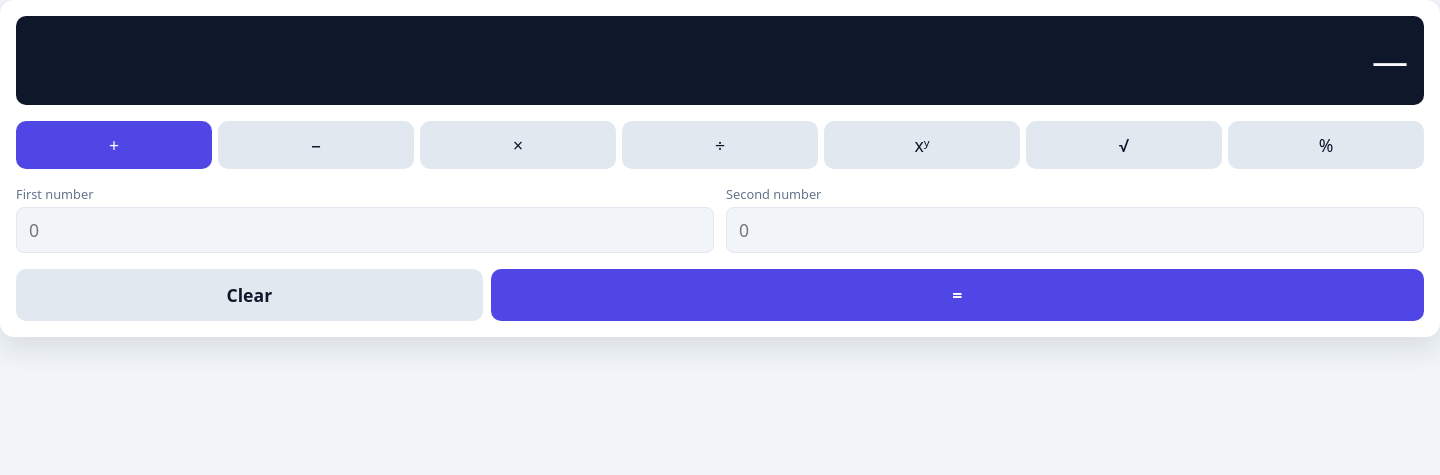
Scenario: Calculator › submits with the Enter key
Click the radio button named "Multiply" at {"x": 518, "y": 145}, box [420,121,616,169]
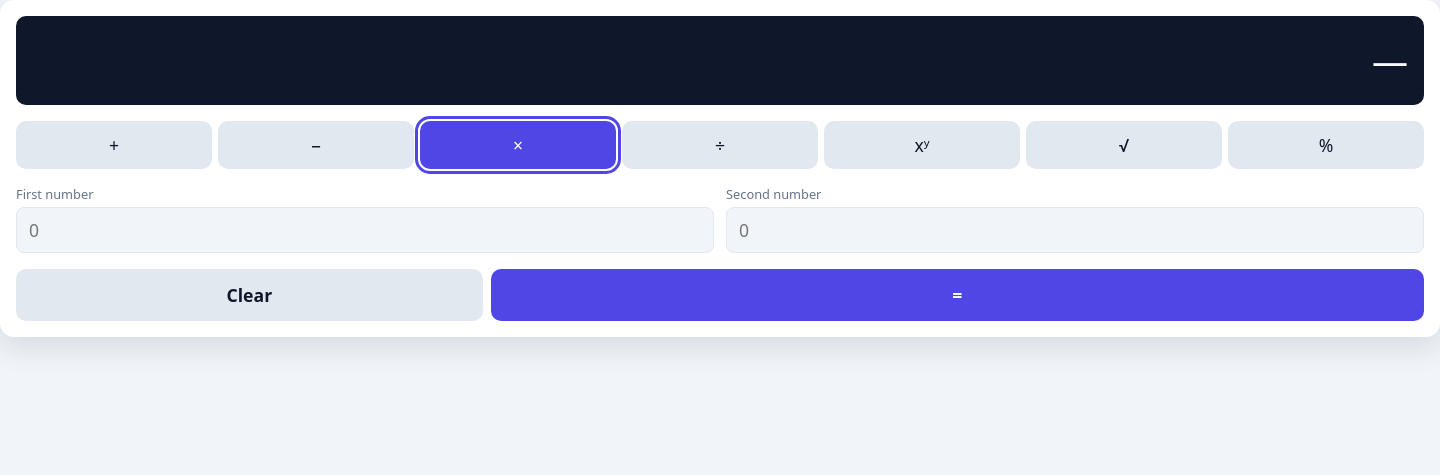
Type "2" into the field labelled "First number" at {"x": 365, "y": 230}, box [16,207,714,253]
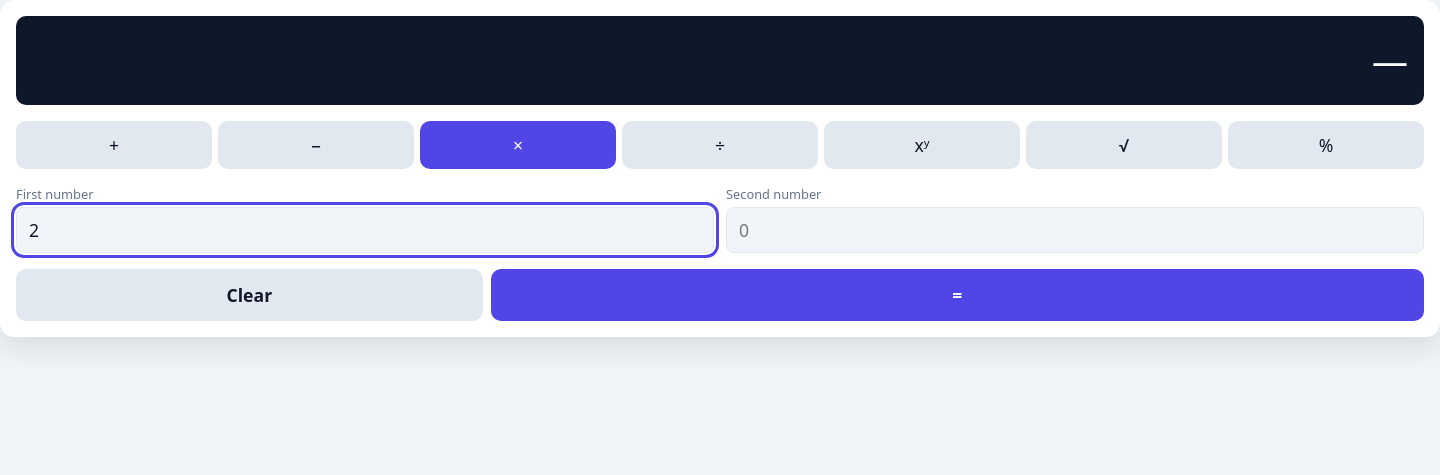
Type "5" into the field labelled "Second number" at {"x": 1075, "y": 230}, box [726,207,1424,253]
Then press Enter
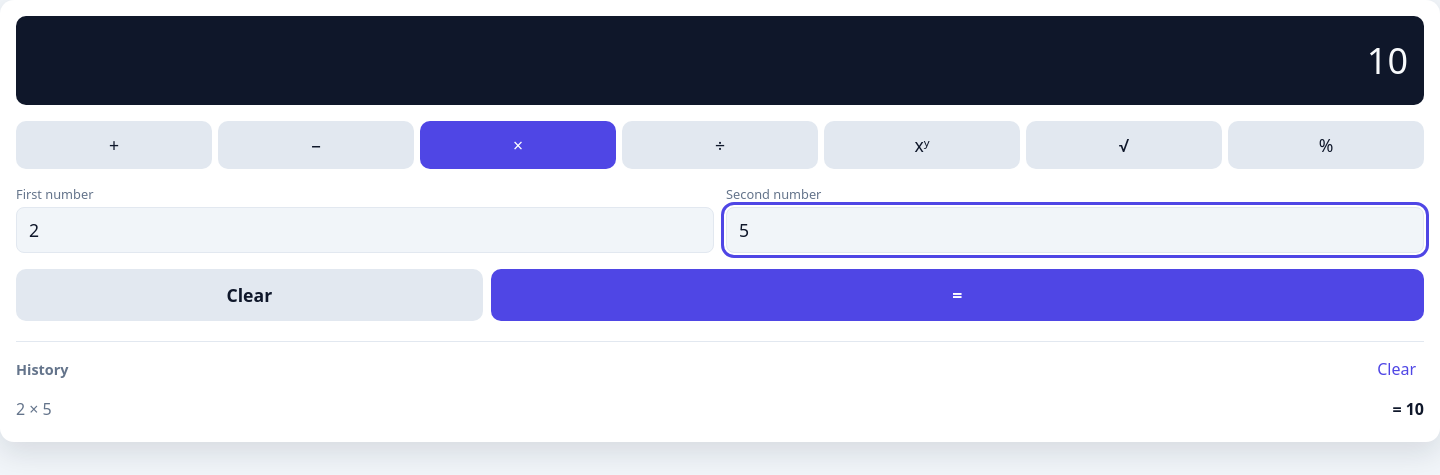
Check: the text with test id "result" reads "10", box [1367,36,1408,85]
